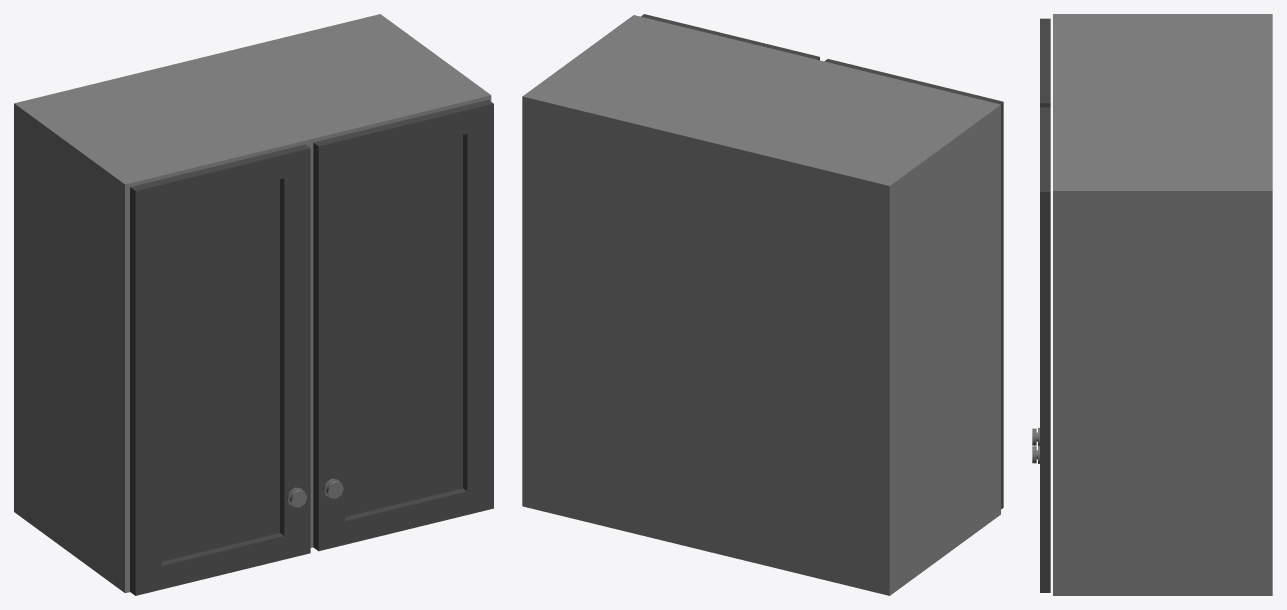
File: UpperCabinets.fbx
3 views of the same model, side by side, from view 1: azimuth 30°, elevation 25°; view 2: azimuth 150°, elevation 25°; view 3: azimuth 270°, elevation 25° (orthographic).
Visible parts, largest first — view 1: Base.001; view 2: Base.001; view 3: Base.001.
Boxes of the visible parts, bbox=[...] form: Base.001: bbox=[14, 14, 493, 595]; Base.001: bbox=[522, 14, 1003, 595]; Base.001: bbox=[1032, 14, 1272, 595].
Bounding box in the file's own units: 60.95 × 65 × 35.
Materials: 2 (1 with a texture image).
